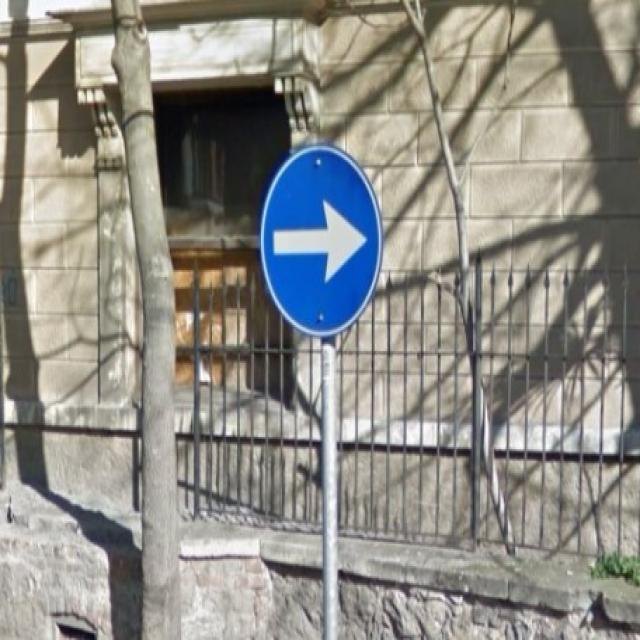Turn Right: (254, 142, 386, 343)
